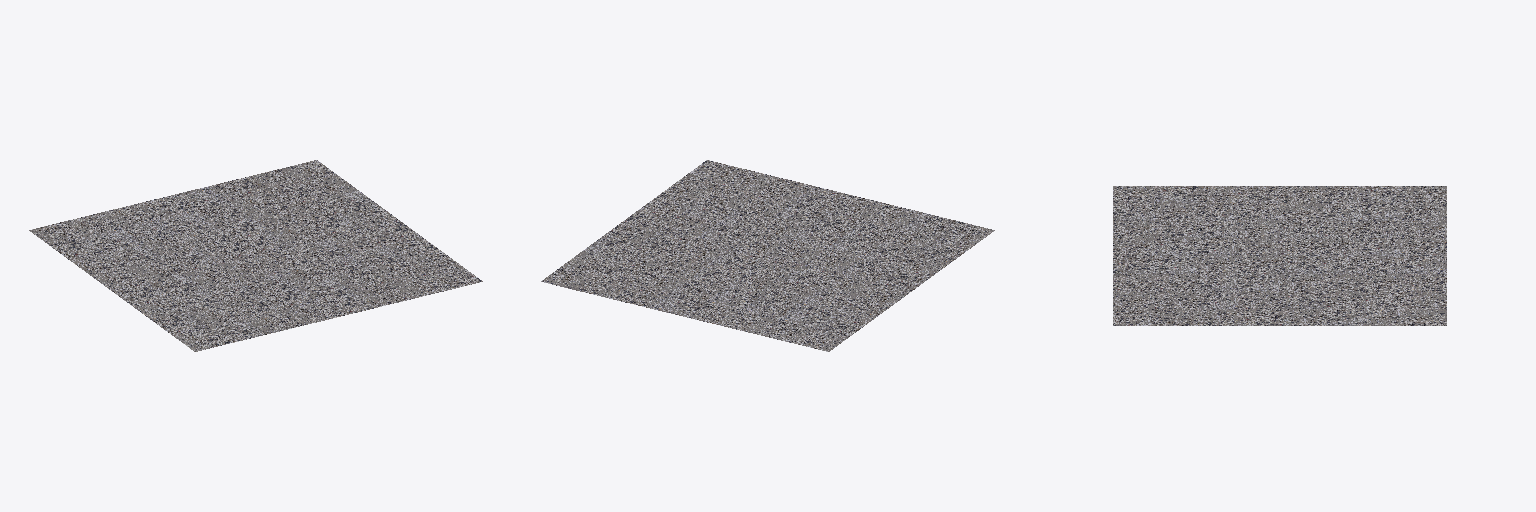
3 views of the same model, side by side, from view 1: azimuth 30°, elevation 25°; view 2: azimuth 150°, elevation 25°; view 3: azimuth 270°, elevation 25° (orthographic).
Visible parts, largest first — view 1: Plane; view 2: Plane; view 3: Plane.
Boxes of the visible parts, box(x1,y1,x2,y2) form: Plane: box(29, 160, 482, 351); Plane: box(541, 160, 994, 351); Plane: box(1113, 186, 1446, 325).
Bounding box in the file's own units: 8.66 × 0 × 8.66.
Materials: 1 (1 with a texture image).